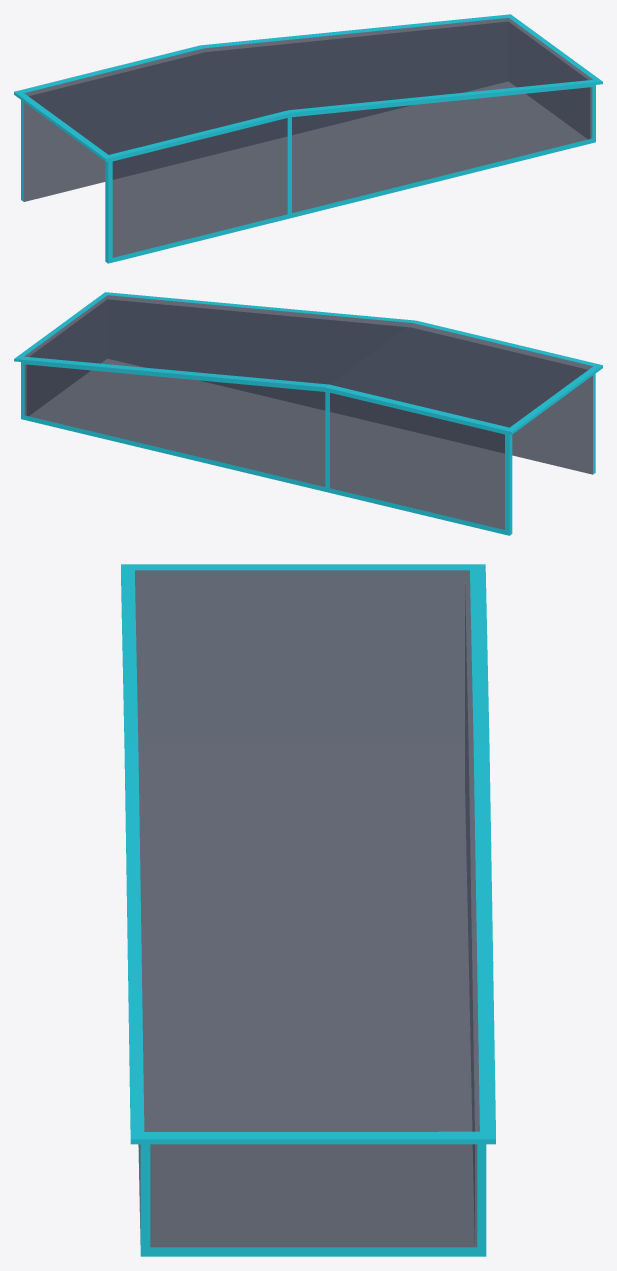
3 views of the same model, one above another, from view 1: azimuth 30°, elevation 25°; view 2: azimuth 150°, elevation 25°; view 3: azimuth 270°, elevation 25° (orthographic). The views are drawn at different scales.
Visible parts, largest first — view 1: 1003???; view 2: 1003???; view 3: 1003???.
Part boxes in pixels (left/top/right/bottom): 1003???: left=14, top=14, right=602, bottom=263; 1003???: left=14, top=292, right=602, bottom=535; 1003???: left=121, top=564, right=495, bottom=1256.
Bounding box in the file's own units: 25.2 × 5.19 × 8.27.
Materials: 2 (2 with a texture image).
